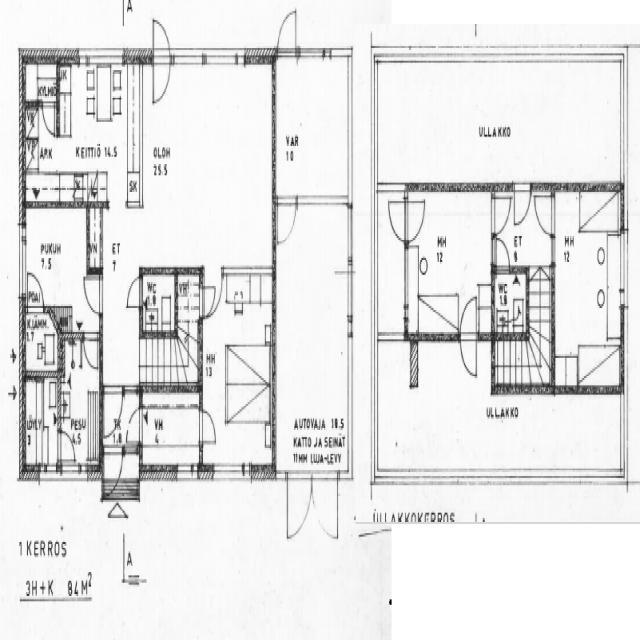door: (377, 56, 622, 184), (284, 467, 315, 544), (312, 472, 341, 546), (150, 14, 172, 105), (458, 292, 479, 378), (101, 443, 126, 503), (274, 190, 298, 248), (275, 5, 299, 62), (102, 473, 130, 520), (101, 385, 124, 440), (533, 186, 555, 239), (491, 187, 513, 238), (404, 194, 426, 244), (387, 192, 407, 243), (83, 270, 104, 318), (199, 278, 220, 320), (198, 404, 218, 448), (513, 183, 532, 228), (124, 403, 143, 447), (58, 426, 77, 469), (26, 268, 44, 310), (82, 331, 100, 372), (493, 232, 511, 272), (125, 274, 144, 311), (41, 97, 58, 137)
window: (617, 222, 630, 310), (211, 458, 251, 484), (204, 46, 245, 70), (79, 46, 123, 68), (344, 198, 356, 273), (18, 218, 28, 301), (344, 259, 356, 327), (296, 41, 328, 66), (172, 46, 204, 70), (175, 458, 197, 482), (60, 459, 86, 479), (402, 242, 409, 312), (39, 459, 60, 479)
zone: (388, 56, 622, 188), (140, 58, 275, 272), (273, 195, 352, 478), (552, 188, 624, 390), (59, 60, 142, 202), (406, 190, 492, 323), (274, 52, 350, 200), (222, 272, 272, 467), (23, 204, 91, 314), (59, 339, 102, 473), (139, 387, 202, 471), (23, 373, 60, 473), (177, 271, 200, 379), (23, 307, 59, 375), (493, 268, 528, 336), (141, 270, 177, 336), (24, 60, 59, 102)
